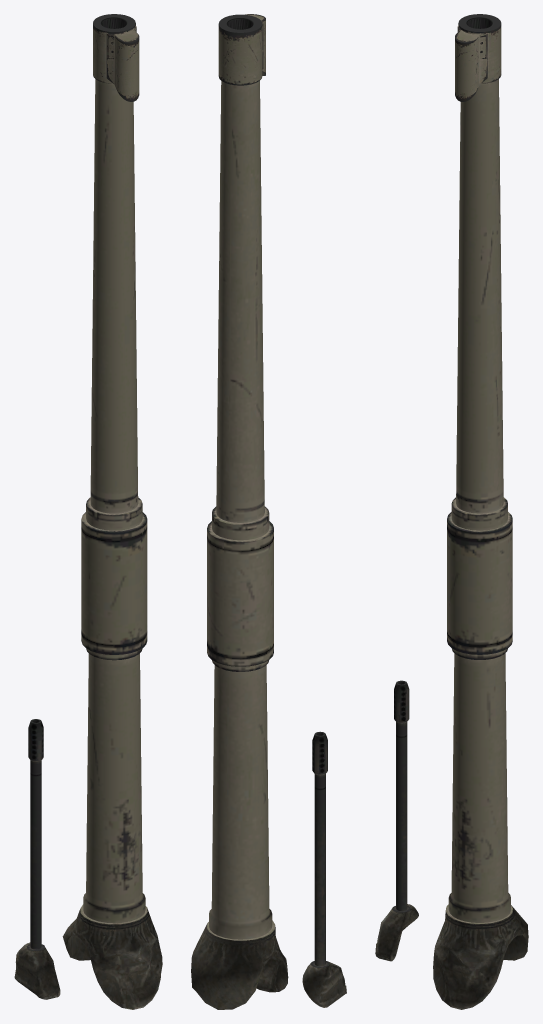
The model's file is Gun_01.glb.
3 views of the same model, side by side, from view 1: azimuth 30°, elevation 25°; view 2: azimuth 150°, elevation 25°; view 3: azimuth 330°, elevation 25° (orthographic).
Parts seen in each view (by area): view 1: set_0_group_0; view 2: set_0_group_0; view 3: set_0_group_0.
Boxes of the visible parts, x1,y1,x2,y2 form: set_0_group_0: [14, 14, 162, 1009]; set_0_group_0: [191, 14, 346, 1009]; set_0_group_0: [375, 14, 528, 1009].
Size of the model in its own units: 0.6185 by 4.49 by 0.4342.
1 material, 1 textured.
